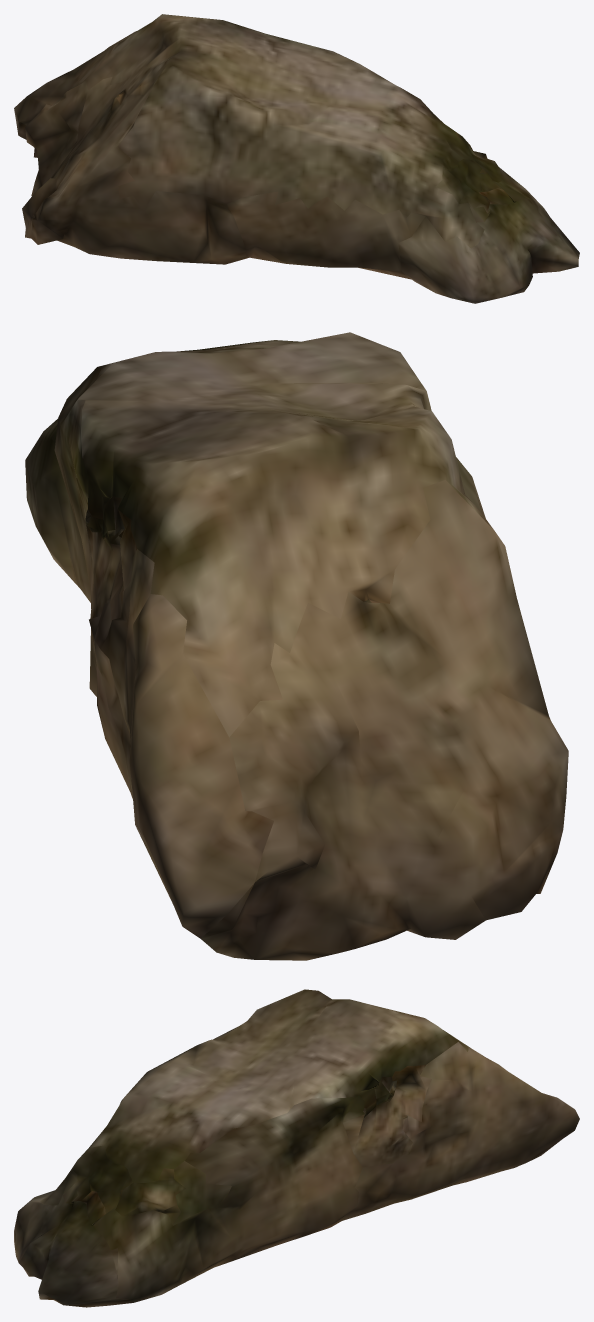
File: rock_moss_set_01_1.glb
3 renders of one model, top to bottom at view 1: azimuth 30°, elevation 25°; view 2: azimuth 150°, elevation 25°; view 3: azimuth 270°, elevation 25°, orthographic. The views are drawn at different scales.
Size of the model in its own units: 2.66 by 1.26 by 3.25.
Materials: 1 (1 with a texture image).
